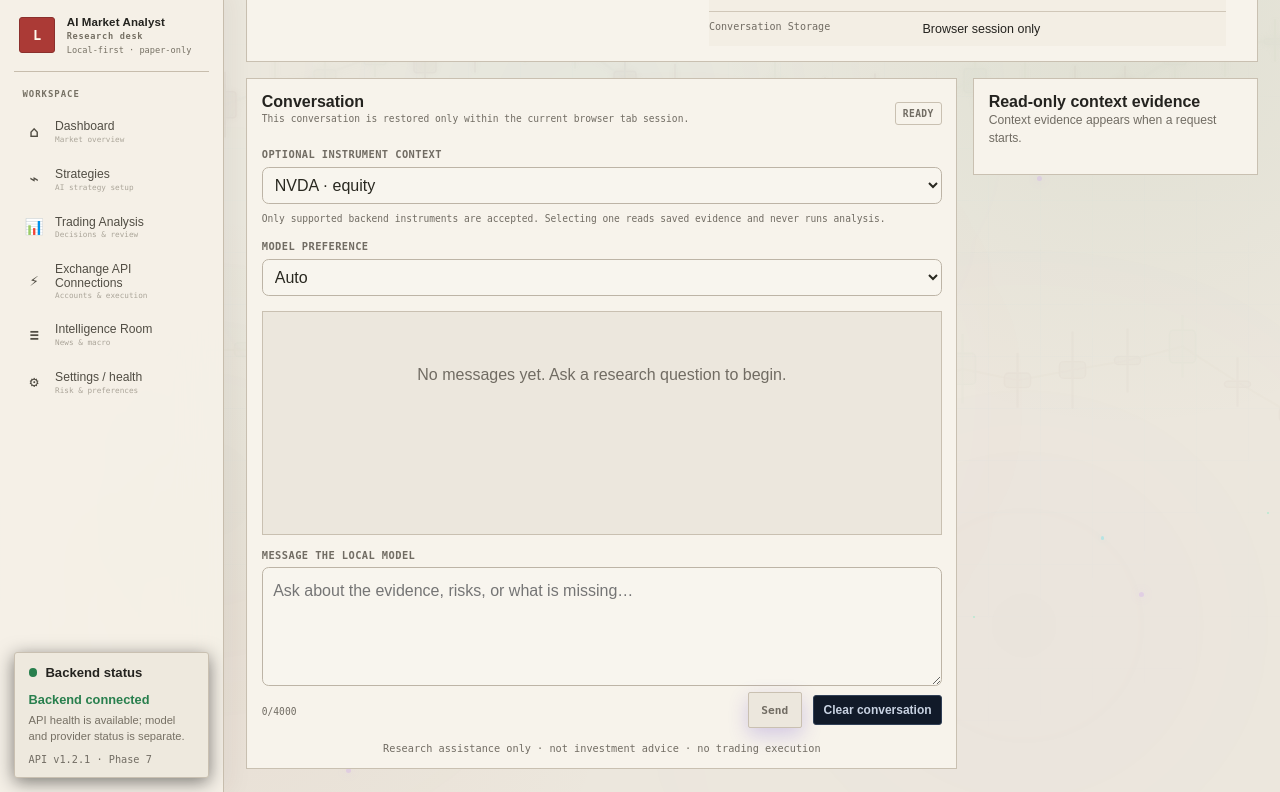
Test: QwenConsultPage › renders incremental chunks, context evidence and persists the session
The width and height of the screenshot is (1280, 792).
(page scrolled)
expect the dropdown labelled "Optional instrument context" shows "NVDA · equity": met, box [262,167,942,204]
In the text box labelled "Message the local model": (602, 627) [262,567,942,686], type "Explain the saved evidence"
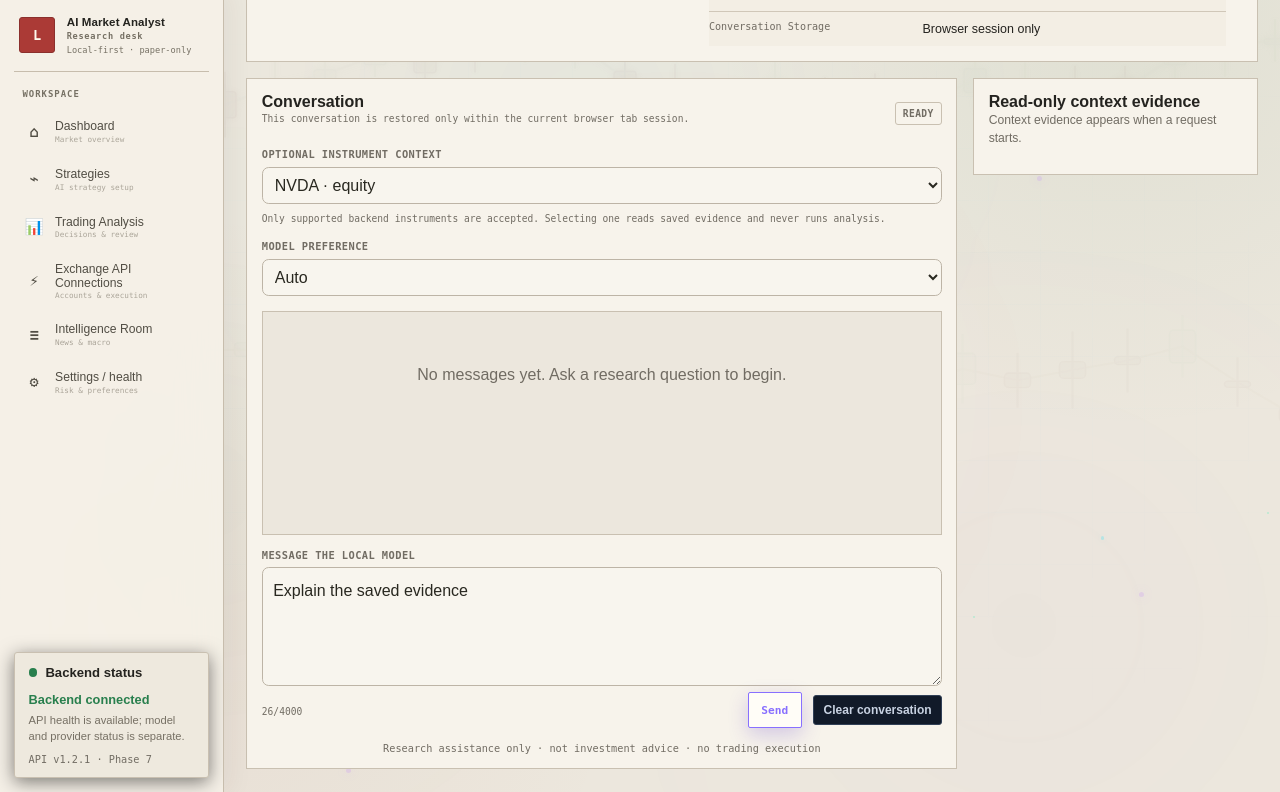
Press Enter in the text box labelled "Message the local model", box [262,567,942,686]
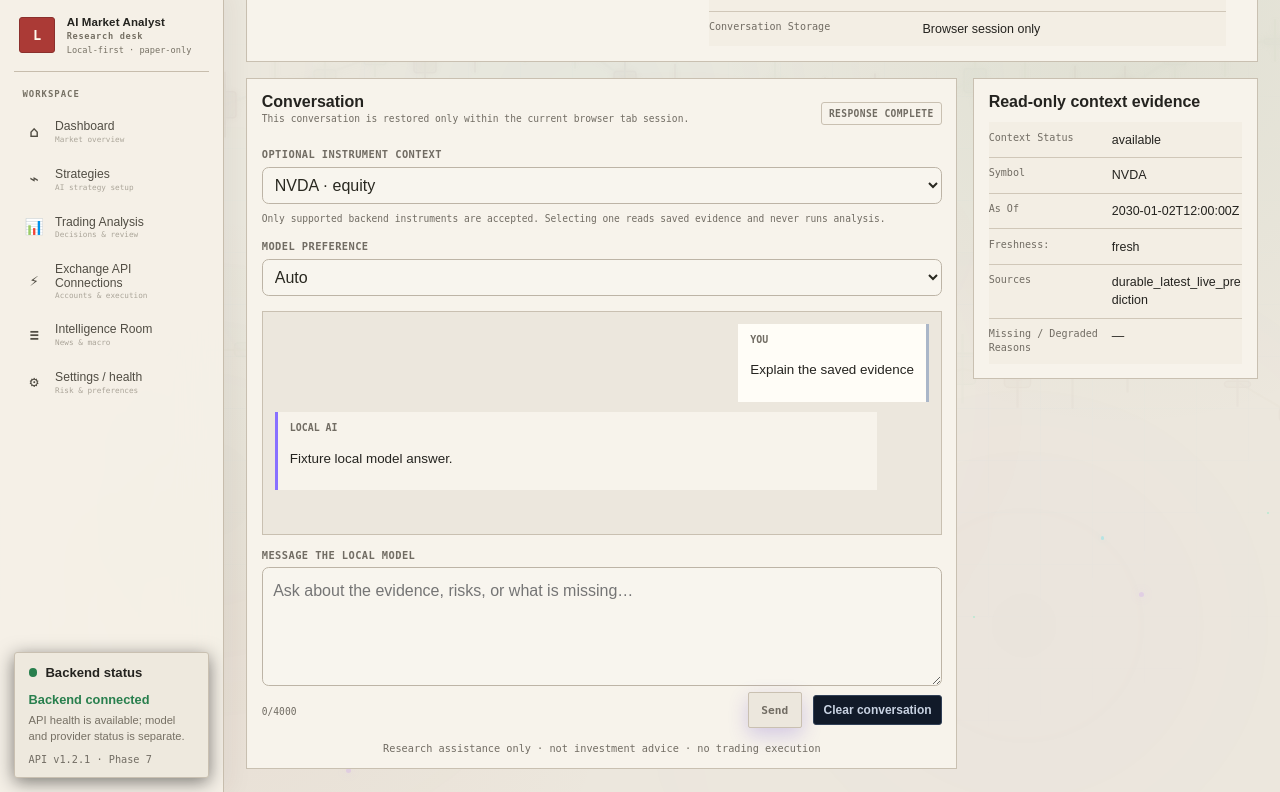
expect the text "Fixture local model answer." is shown: met, box [290,451,453,466]
expect the text "Response complete" is shown: met, box [821,102,942,125]
expect the text "2030-01-02T12:00:00Z" is shown: met, box [1112,202,1242,220]
